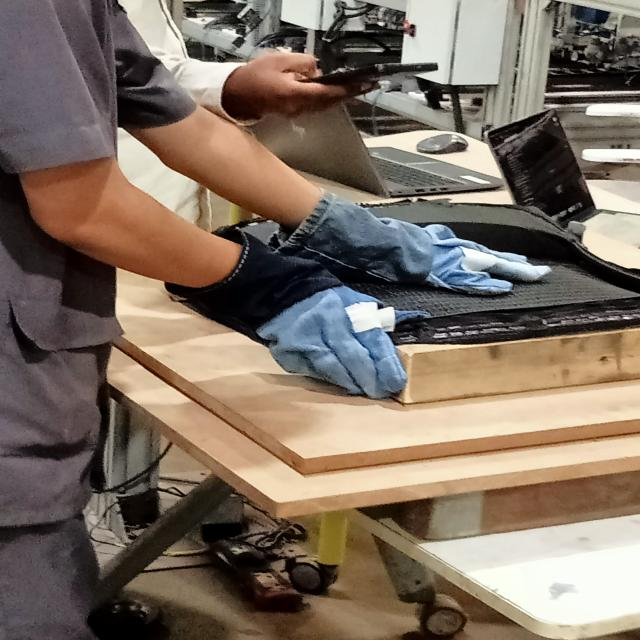Gloves-Detection: (205, 217, 395, 394), (318, 183, 528, 287)
